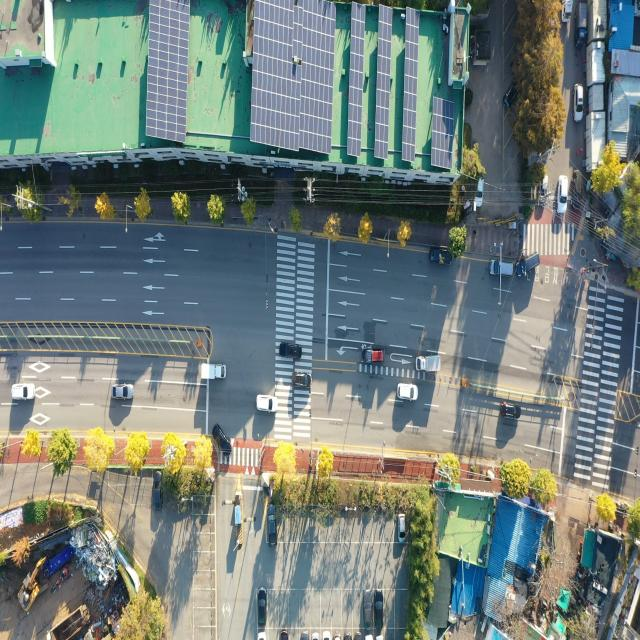car: (210, 421, 233, 458), (500, 80, 523, 110), (516, 252, 542, 278), (362, 589, 374, 632), (488, 261, 515, 279), (557, 175, 569, 214), (278, 342, 303, 360), (501, 399, 522, 420), (153, 469, 164, 508), (258, 393, 279, 413), (374, 590, 384, 632), (292, 370, 313, 390), (11, 383, 34, 401), (267, 504, 277, 545), (474, 173, 485, 210), (396, 384, 417, 402), (574, 169, 583, 210), (111, 384, 134, 400), (536, 176, 548, 205), (574, 85, 583, 123), (258, 589, 267, 625), (398, 514, 406, 543)
small_truck: (575, 1, 589, 47), (416, 354, 440, 372), (200, 364, 224, 382), (429, 247, 452, 265), (360, 347, 384, 364), (560, 0, 573, 24)
